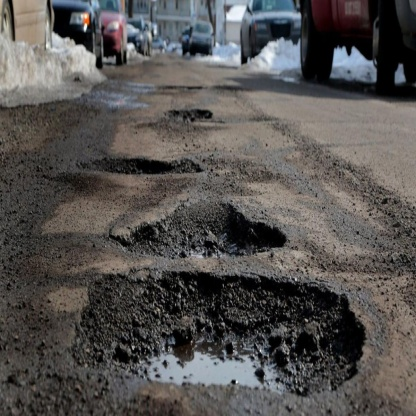pothole: (61, 266, 366, 399), (85, 203, 297, 262), (75, 152, 207, 178), (155, 104, 223, 125)
